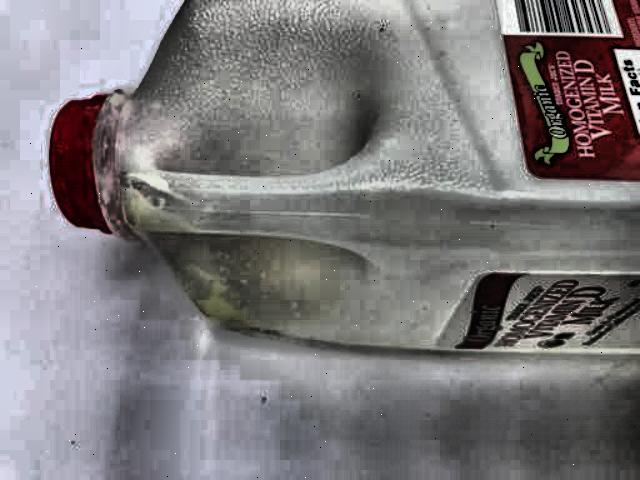Plastic: (4, 0, 640, 384)
